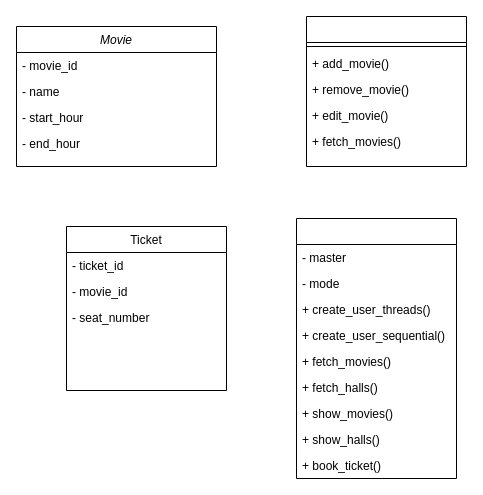
The diagram is 483 pixels wide and 495 high, and some of its shapes have lost their labels. The shapes that lost their labels are listed below. From the top down, each one's box as (x1, y1, x2, y2) in pixels, then its label:
(306, 16, 466, 166): Admin
(296, 218, 456, 478): MovieBookingSystem
